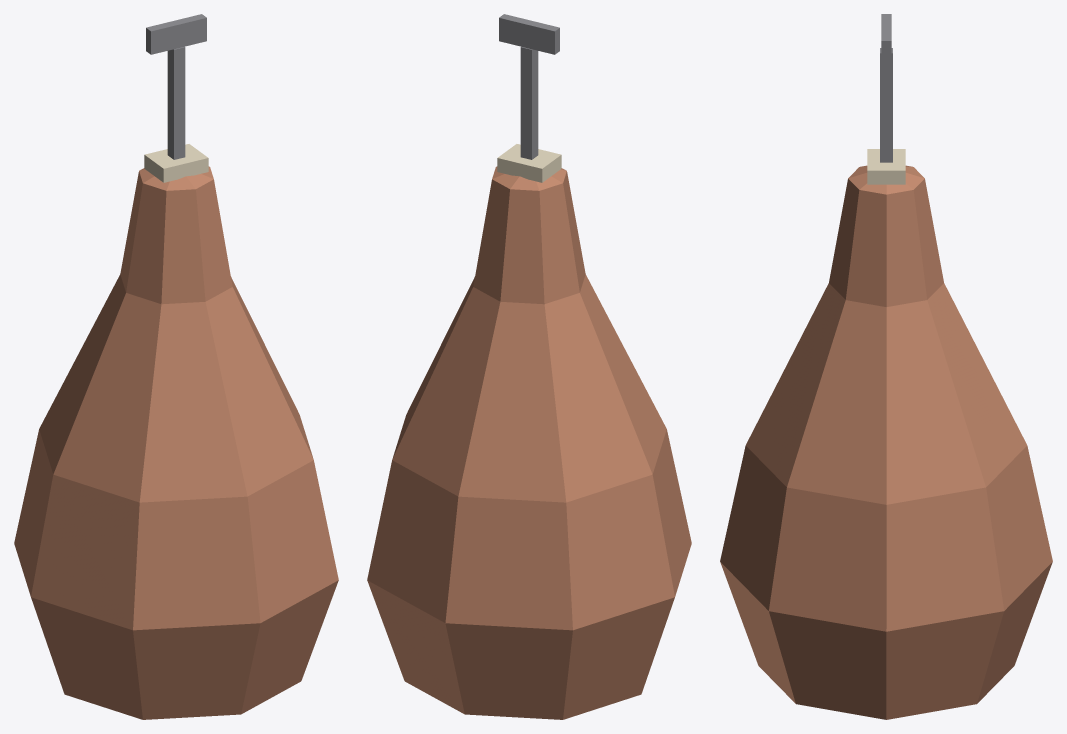
File: prop-hanging-ham.fbx
The picture shows the model from 3 angles, left to right: view 1: azimuth 30°, elevation 25°; view 2: azimuth 150°, elevation 25°; view 3: azimuth 270°, elevation 25°; orthographic projection.
Visible parts, largest first — view 1: prop-hanging-ham; view 2: prop-hanging-ham; view 3: prop-hanging-ham.
Boxes of the visible parts, left/top/right/bottom form: prop-hanging-ham: left=14, top=14, right=338, bottom=719; prop-hanging-ham: left=367, top=14, right=691, bottom=719; prop-hanging-ham: left=720, top=14, right=1052, bottom=719.
Bounding box in the file's own units: 26 × 58 × 26.
